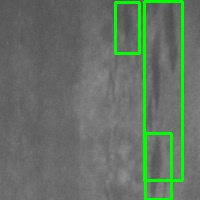inclusion: (144, 1, 182, 180), (145, 133, 171, 199), (115, 2, 139, 53)
